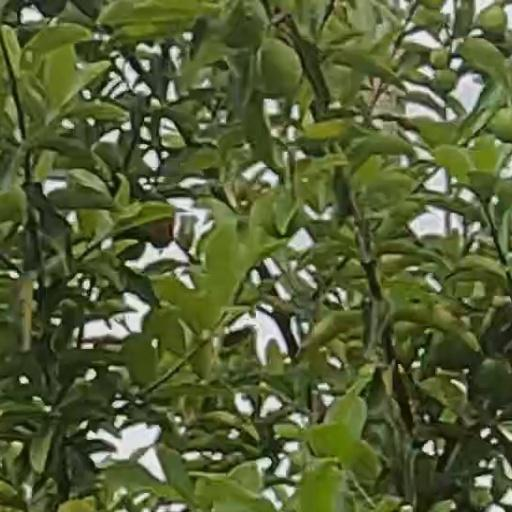acerola_verde: (258, 47, 305, 91)
